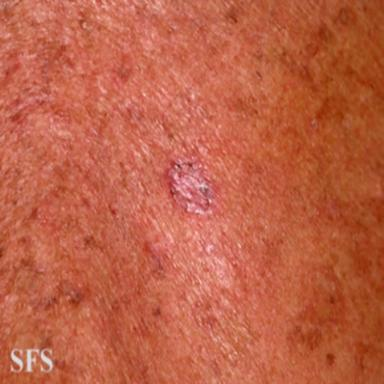basal-cell-carcinoma: (165, 154, 220, 219)
